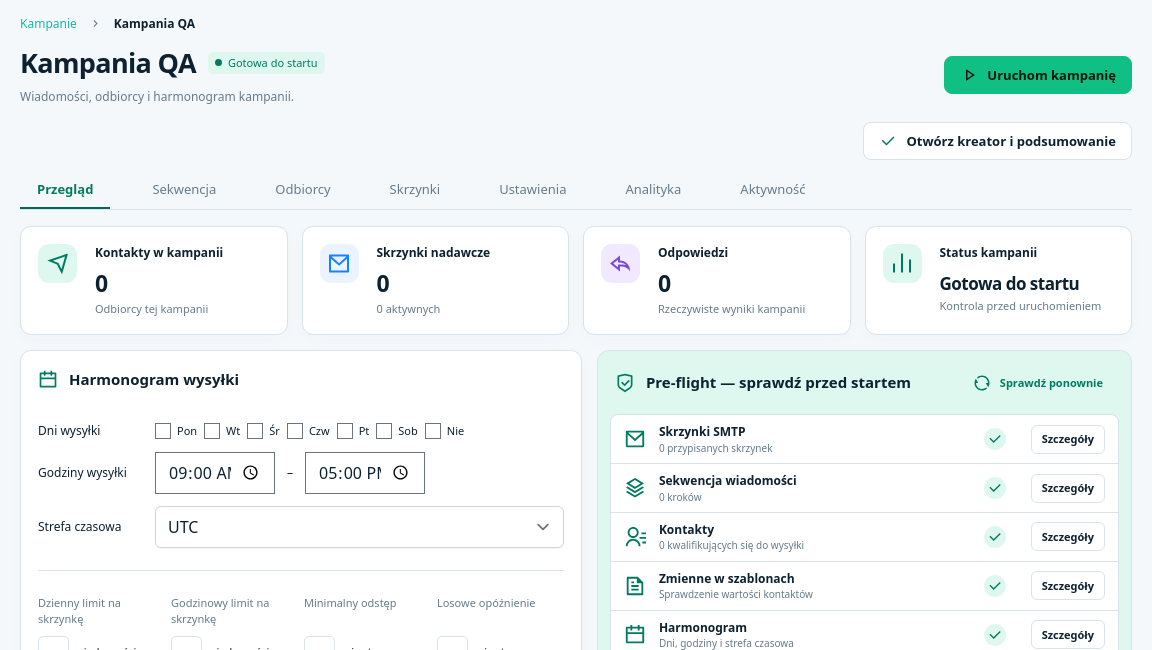
Scenario: reference board loading / empty / error states › clears stale successful preflight results after a failed refresh
The width and height of the screenshot is (1152, 650).
What coordinates should you click on to do the following:
click the button "Sprawdź ponownie"
I would click on:
 (1038, 383)
Its box is [962,368,1114,398].
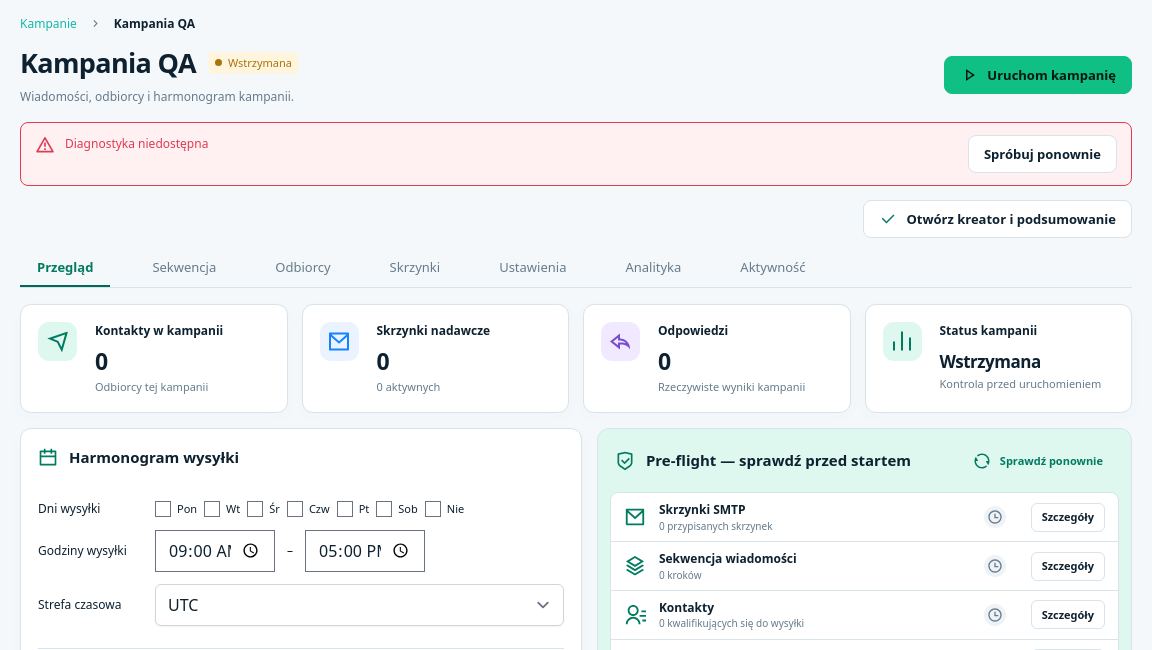
expect the text "Diagnostyka niedostępna" is shown: met, box [65,135,208,152]
